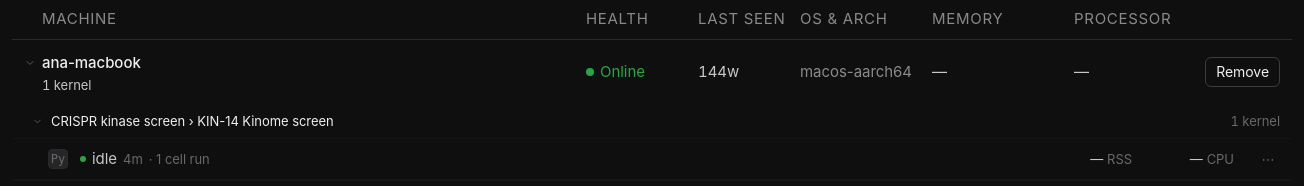
Test: opens a machine's kernels out of its own row, and closes them again
Expected: the text "CRISPR kinase screen › KIN-14 Kinome screen" is shown, [51,113,334,129]
Click the button with aria-label "ana-macbook — 1 kernel".
click(91, 62)  # box [20,50,574,76]
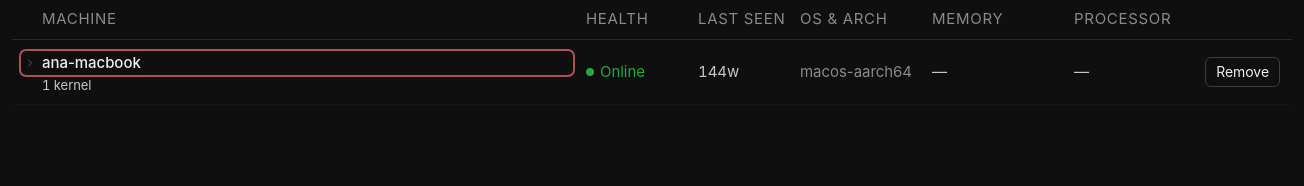
Expected: the text "ana-macbook" is shown, [42,52,141,74]
Expected: the button "CRISPR kinase screen › KIN-14 Kinome screen" is gone
